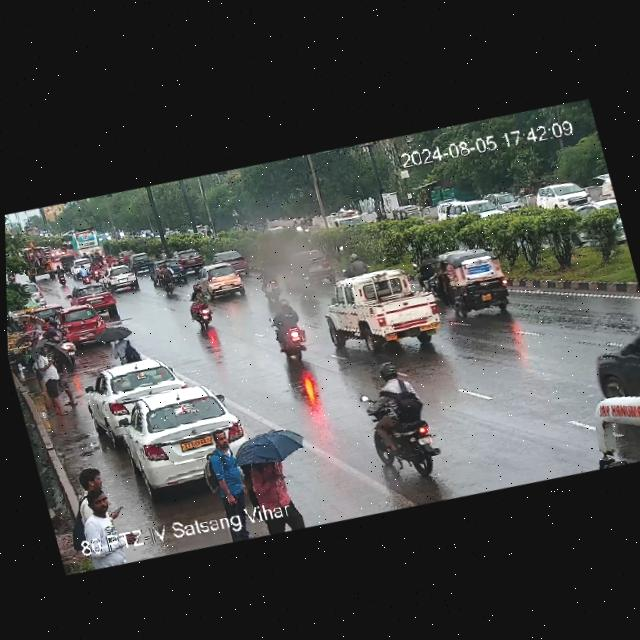bus: (560, 317, 640, 472), (60, 225, 103, 260)
car: (113, 376, 248, 491), (419, 236, 523, 330), (84, 350, 190, 436), (570, 314, 640, 408), (189, 259, 250, 306), (531, 173, 595, 216), (280, 243, 332, 292), (58, 302, 109, 348), (68, 277, 116, 318), (575, 195, 622, 233), (101, 260, 138, 298), (211, 244, 251, 274), (147, 255, 187, 285), (175, 246, 208, 272), (392, 200, 427, 221), (126, 250, 154, 274), (69, 258, 83, 279)
motorcycle: (350, 352, 445, 475), (265, 292, 312, 367), (182, 282, 221, 330), (47, 312, 78, 365), (254, 257, 284, 302), (156, 261, 178, 295), (341, 249, 369, 274), (50, 259, 70, 286), (76, 262, 95, 285)
person: (202, 427, 254, 520), (244, 450, 298, 508), (68, 460, 115, 524), (35, 342, 69, 417), (51, 342, 80, 408), (15, 307, 56, 347), (112, 333, 140, 364)
truck: (315, 251, 450, 363), (20, 239, 56, 284)
